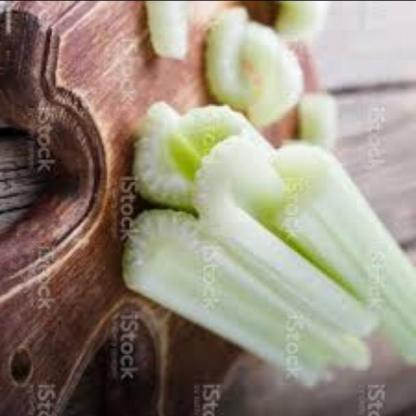celery: (120, 85, 416, 369), (197, 8, 320, 126), (284, 73, 344, 156), (132, 0, 198, 62), (268, 0, 335, 45)
